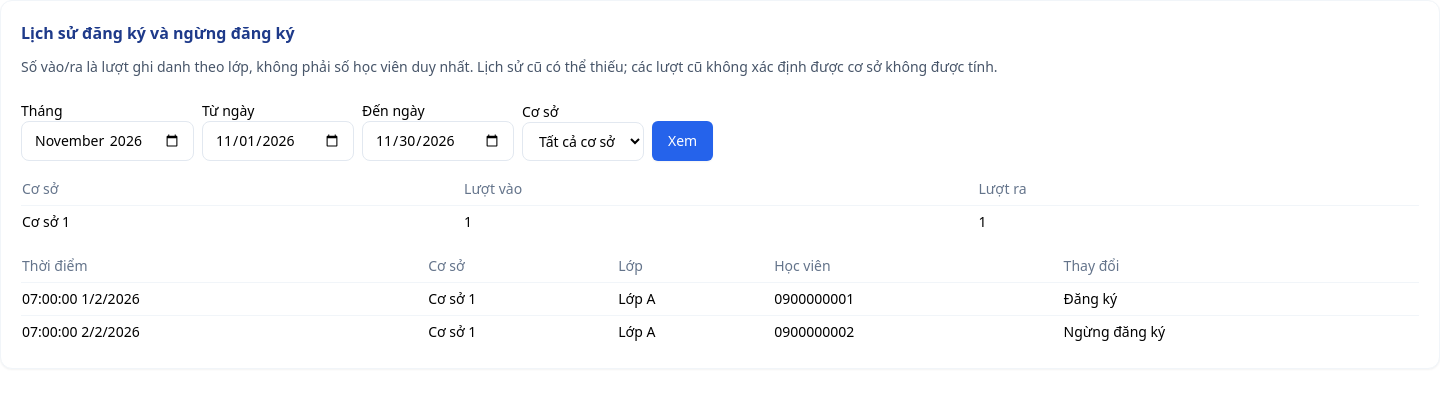
filters enrollment movements by month and displays branch totals and event details
expect the text "0900000001" is shown: met, box [773,282,1063,316]
expect the text "1" is shown 2 times: met, box [463,206,978,238]; [978,206,1419,238]
Replace the text in the field named "Tháng ghi danh" with "2026-02" at (108, 141), box [21,121,194,161]
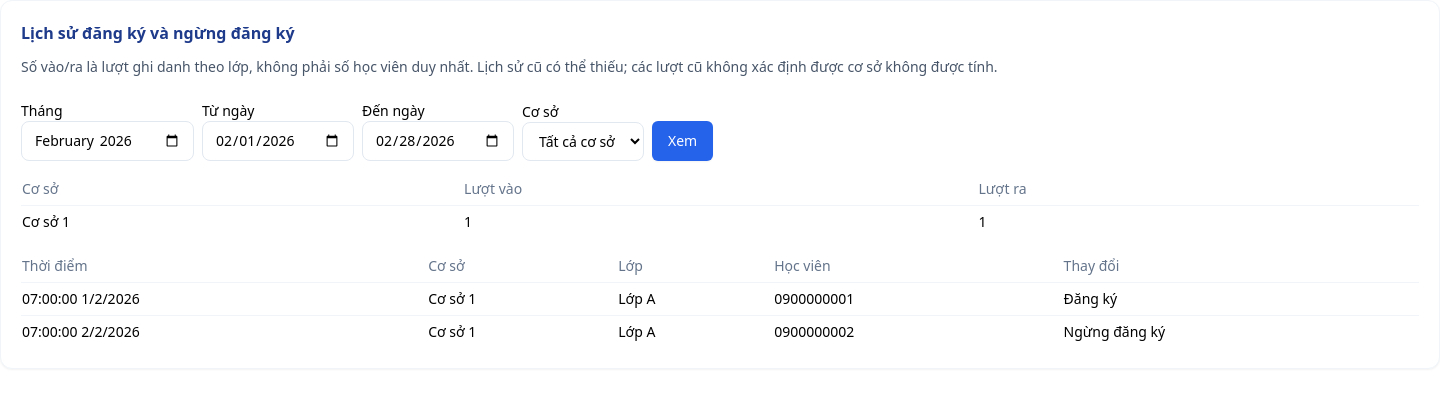
Select "Cơ sở 1" in the dropdown named "Cơ sở ghi danh" at (583, 142), box [522,122,644,161]
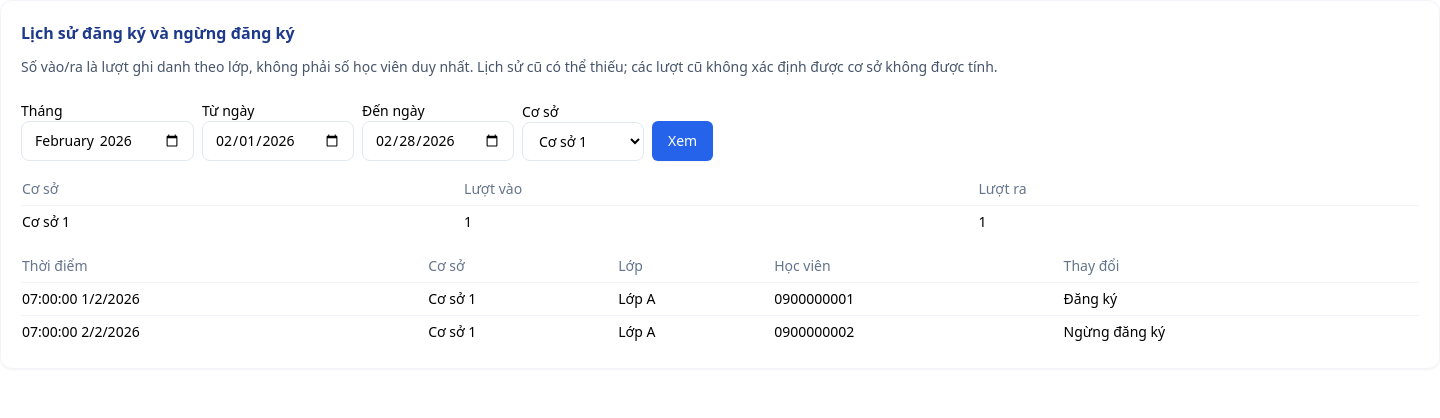
Click the button "Xem" at (683, 141), box [652,121,713,161]
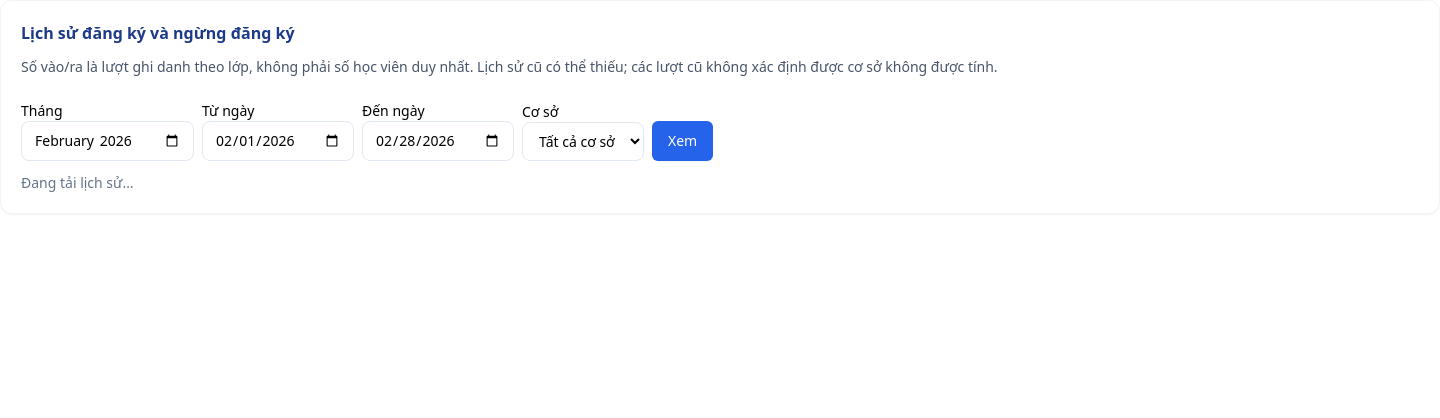
Type "2026-03-01" into the date field named "Từ ngày ghi danh" at (278, 141), box [202,121,354,161]
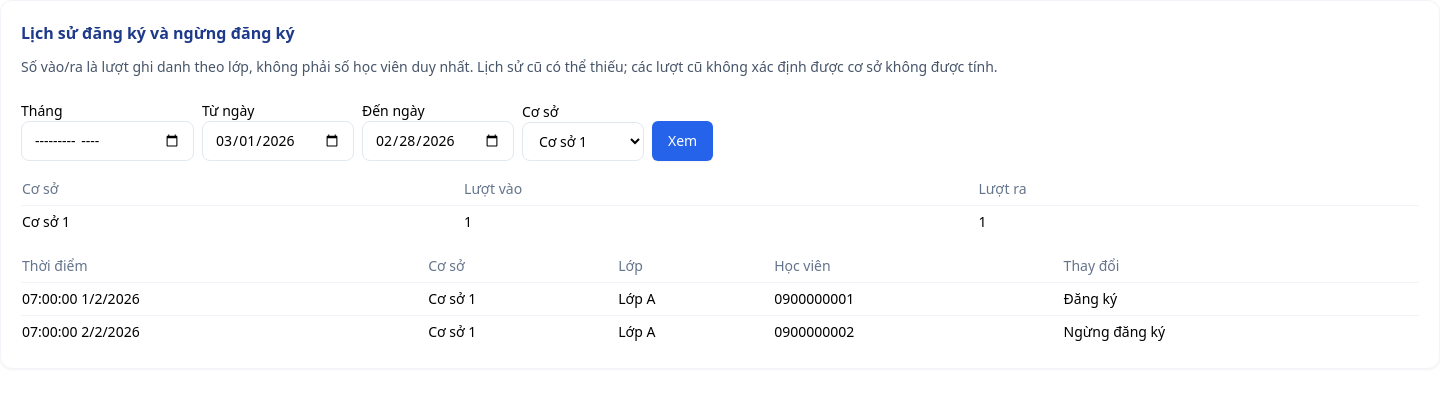
Click the button "Xem" at (683, 141), box [652,121,713,161]
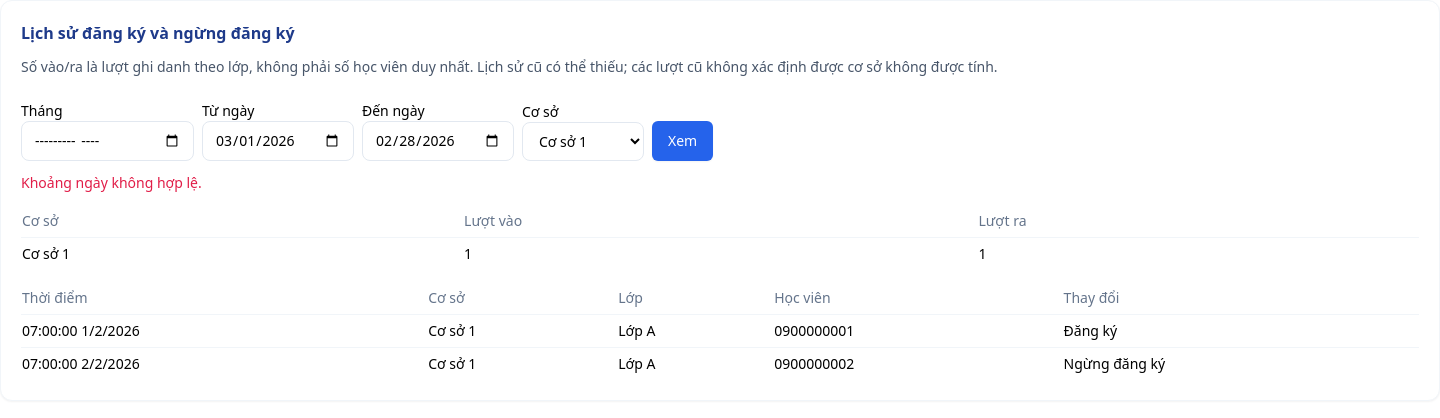
expect the message shows "Khoảng ngày không hợp lệ": met, box [21,173,202,192]
